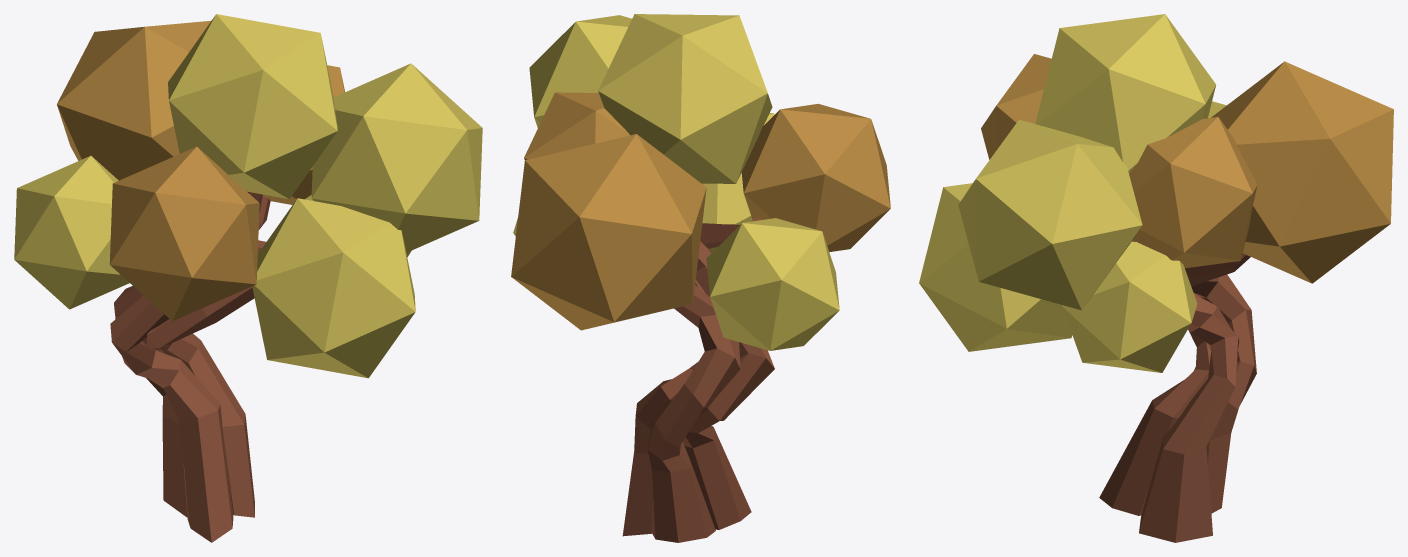
Rendered from Tree_06_autumn_mat.fbx.
3 renders of one model, left to right at view 1: azimuth 30°, elevation 25°; view 2: azimuth 150°, elevation 25°; view 3: azimuth 270°, elevation 25°, orthographic. The views are drawn at different scales.
Visible parts, largest first — view 1: Tree_06_autumn_mat; view 2: Tree_06_autumn_mat; view 3: Tree_06_autumn_mat.
Boxes of the visible parts, x1=… form: Tree_06_autumn_mat: x1=14, y1=14, x2=482, y2=542; Tree_06_autumn_mat: x1=511, y1=14, x2=890, y2=542; Tree_06_autumn_mat: x1=919, y1=14, x2=1393, y2=542.
Bounding box in the file's own units: 19.52 × 23.92 × 20.29.
